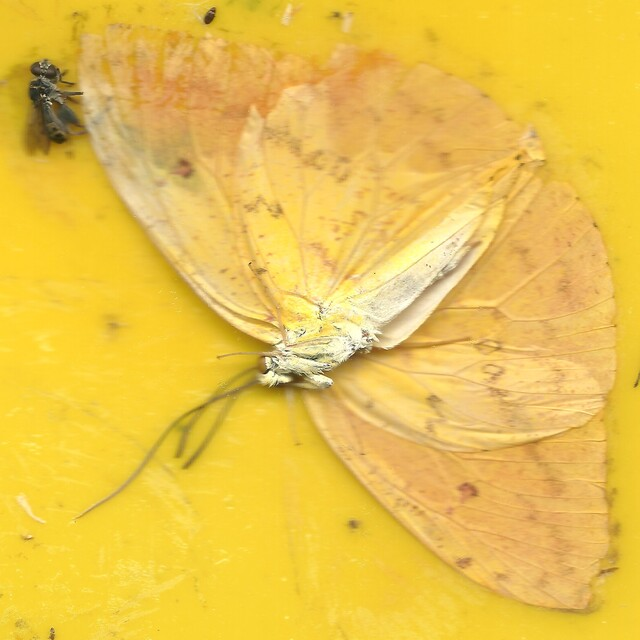Brachycera: (23, 60, 88, 158)
Lepidoptera: (72, 22, 617, 618)
